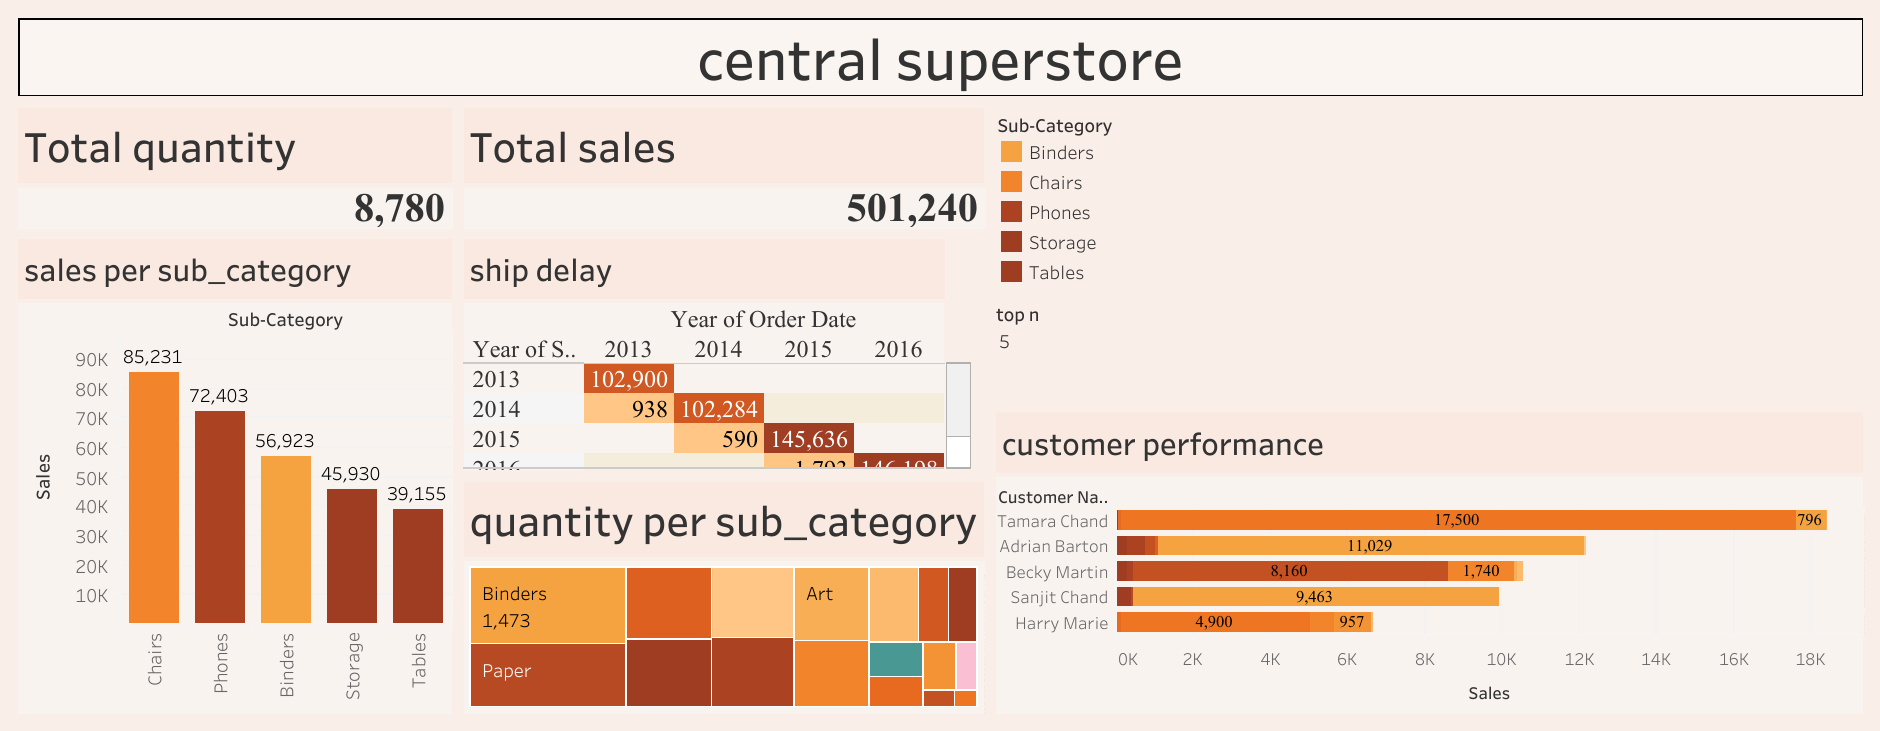

Layout of this report page (visuals, bound fields, positions):
{"tool":"tableau","page":{"name":"Dashboard 1","canvas":[1000,1000],"units":"permille","ordinal":0},"visuals":[{"type":"title","box":[5.7,13.8,988.6,146.1]},{"type":"worksheet","title":"total quantity","mark":"Automatic","box":[5.7,159.8,260.1,174.1]},{"type":"worksheet","title":"Total sales","mark":"Automatic","box":[265.8,159.8,310.6,174.1]},{"type":"legend","title":"sales per sub_category","param":"[federated.1sxpw731kjbu7f14qsqcf18da2nv].[none:Sub-Category:nk]","box":[576.3,159.8,418,273.2]},{"type":"worksheet","title":"sales per sub_category","mark":"Automatic","rows":["Sales"],"cols":["Sub-Category"],"box":[5.7,333.9,260.1,652.3]},{"type":"worksheet","title":"ship delay","mark":"Square","rows":["Ship Date"],"cols":["Order Date"],"box":[265.8,333.9,310.6,326.1]},{"type":"parameter","param":"[Parameters].[Parameter 1]","box":[576.3,433,418,142.6]},{"type":"worksheet","title":"customer performance","mark":"Automatic","rows":["Customer Name"],"cols":["Sales"],"box":[576.3,575.6,418,410.6]},{"type":"worksheet","title":"quantity per sub_category","mark":"Automatic","box":[265.8,660.1,310.6,326.2]}]}

Visuals, with their boxes on the dashboard's canvas, which has no fixed pixel size, in thousandths of its width and height (x1, y1, x2, y2). These are canvas units, not pixel positions in the 1880x731 screenshot, which may show the page scaled, cropped or inside an application window:
title: <box>6,14,994,160</box>
"total quantity" worksheet: <box>6,160,266,334</box>
"Total sales" worksheet: <box>266,160,576,334</box>
"sales per sub_category" legend: <box>576,160,994,433</box>
"sales per sub_category" worksheet: <box>6,334,266,986</box>
"ship delay" worksheet (Square marks): <box>266,334,576,660</box>
parameter: <box>576,433,994,576</box>
"customer performance" worksheet: <box>576,576,994,986</box>
"quantity per sub_category" worksheet: <box>266,660,576,986</box>
